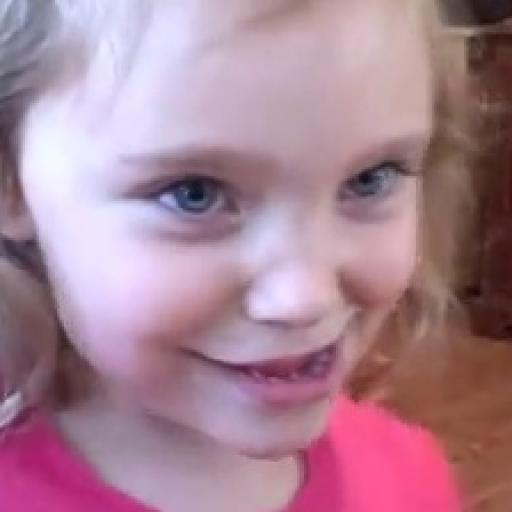Autism: (12, 20, 508, 499)
